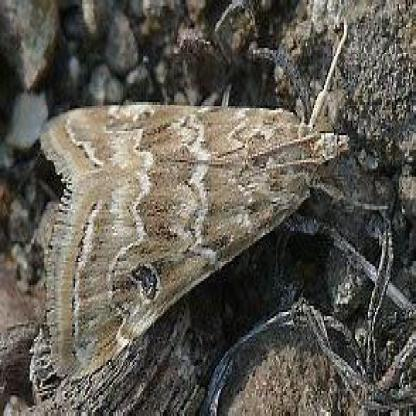Hellula undalis: (31, 13, 356, 383)
